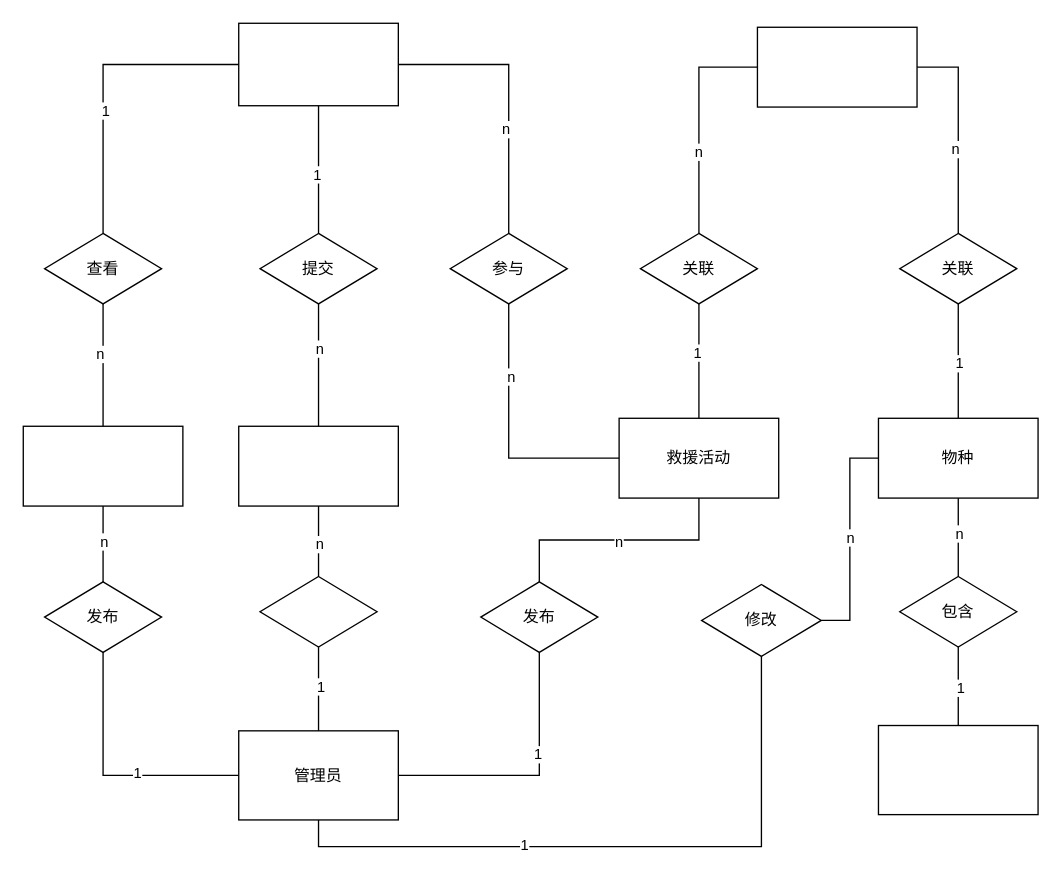
The diagram is 1061 pixels wide and 876 high, and some of its shapes have lost their labels. The shapes that lost their labels are listed below. From the top down, each one's centre as x and y in pixels, then its label:
At (317,64): "用户".
At (836,66): "科普内容".
At (102,465): "公告".
At (317,465): "救援反馈".
At (318,611): "处理".
At (957,769): "分类".
